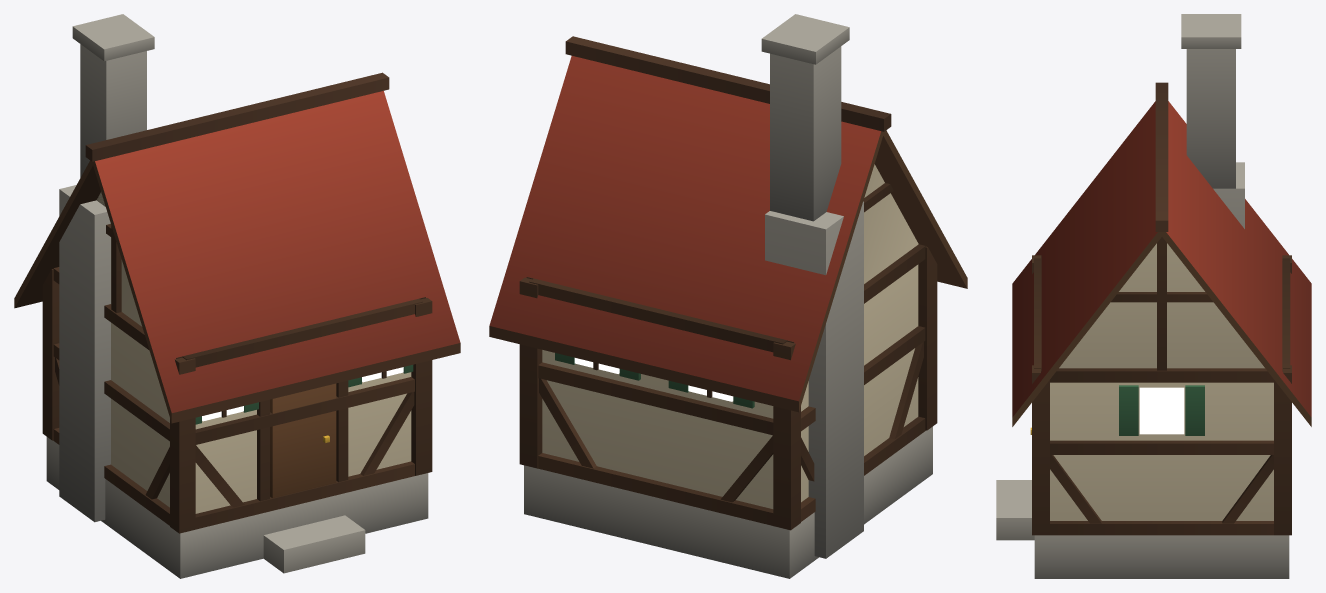
File: b_cottage2.glb
3 renders of one model, left to right at view 1: azimuth 30°, elevation 25°; view 2: azimuth 150°, elevation 25°; view 3: azimuth 270°, elevation 25°, orthographic. The views are drawn at different scales.
Parts seen in each view (by area): view 1: roof, wood, stone, plaster; view 2: roof, stone, wood, plaster; view 3: roof, plaster, wood, stone, glow.
Boxes of the visible parts, x1,y1,x2,y2 form: roof: (95, 91, 460, 412); wood: (14, 72, 460, 533); stone: (46, 14, 428, 578); plaster: (96, 192, 411, 513); roof: (489, 56, 880, 401); stone: (524, 14, 932, 578); wood: (489, 36, 967, 530); plaster: (542, 164, 918, 508); roof: (1012, 101, 1311, 417); plaster: (1050, 243, 1273, 520); wood: (1012, 82, 1311, 535); stone: (996, 14, 1289, 578); glow: (1139, 387, 1184, 434).
Size of the model in its own units: 3.64 by 5.54 by 3.52.
